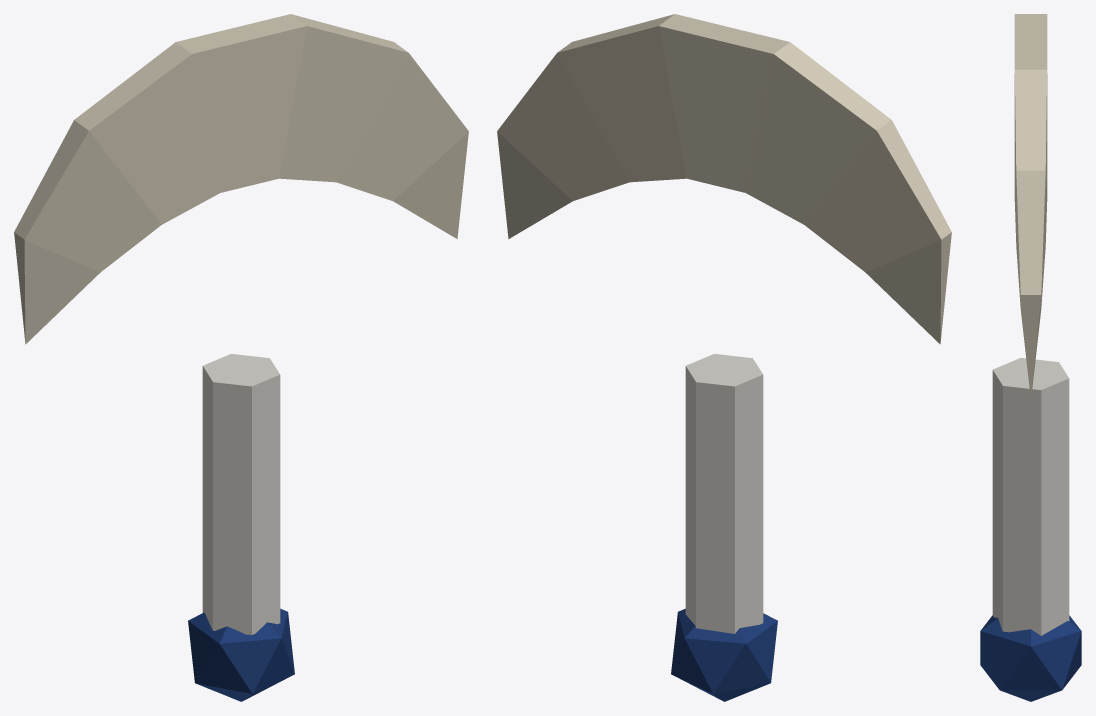
File: weapon_twin_khopesh.glb
The picture shows the model from 3 angles, left to right: view 1: azimuth 30°, elevation 25°; view 2: azimuth 150°, elevation 25°; view 3: azimuth 270°, elevation 25°; orthographic projection.
Parts seen in each view (by area): view 1: owl_weapon_twin_khopesh; view 2: owl_weapon_twin_khopesh; view 3: owl_weapon_twin_khopesh.
Part boxes in pixels (x1=…): owl_weapon_twin_khopesh: x1=14, y1=14, x2=468, y2=701; owl_weapon_twin_khopesh: x1=497, y1=14, x2=951, y2=701; owl_weapon_twin_khopesh: x1=980, y1=14, x2=1081, y2=701.
Size of the model in its own units: 0.2918 by 0.4191 by 0.0582.
